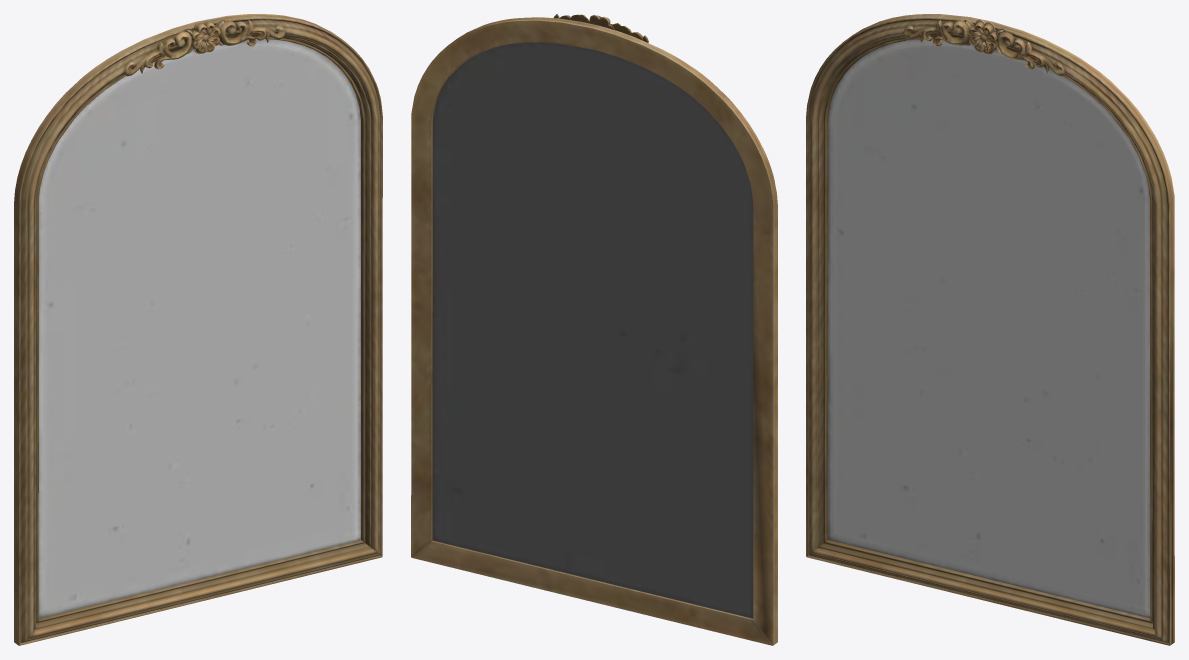
File: ornate_mirror_01.glb
The picture shows the model from 3 angles, left to right: view 1: azimuth 30°, elevation 25°; view 2: azimuth 150°, elevation 25°; view 3: azimuth 330°, elevation 25°; orthographic projection.
Parts seen in each view (by area): view 1: ornate_mirror_01; view 2: ornate_mirror_01; view 3: ornate_mirror_01.
Part boxes in pixels (<box>): ornate_mirror_01: <box>14,14,382,645</box>; ornate_mirror_01: <box>411,14,777,645</box>; ornate_mirror_01: <box>806,14,1174,645</box>.
Size of the model in its own units: 0.4865 by 0.7442 by 0.026.
Materials: 1 (1 with a texture image).
